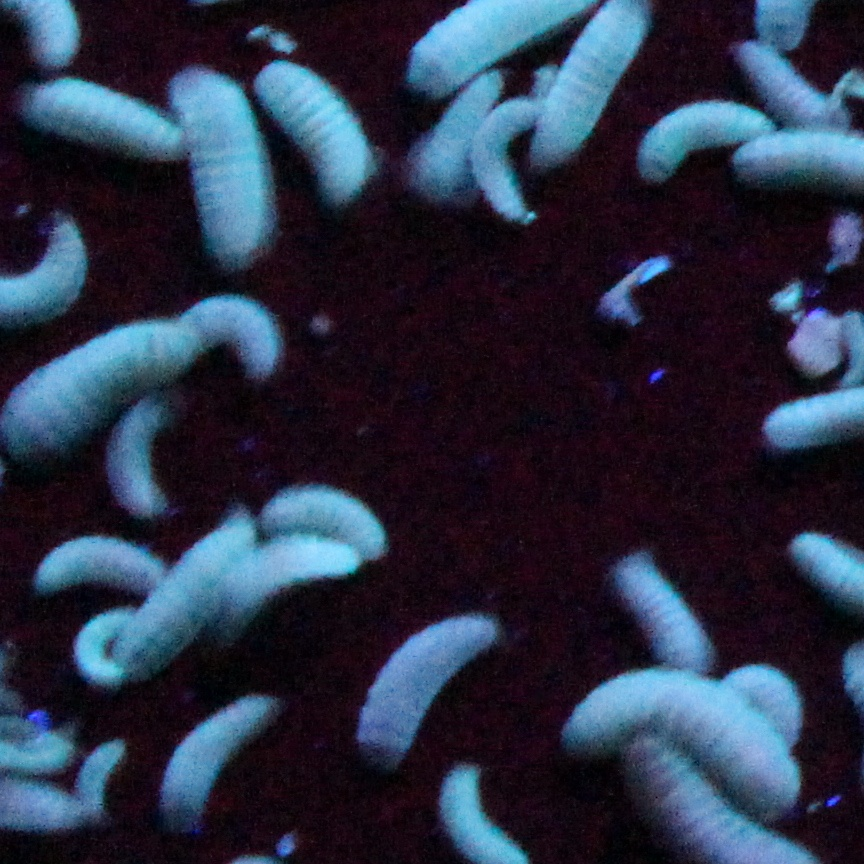larve: (565, 682, 799, 809), (5, 316, 185, 457), (355, 613, 500, 758), (177, 73, 275, 269), (139, 516, 247, 677), (259, 63, 365, 198), (164, 694, 270, 821), (223, 532, 353, 635), (612, 554, 717, 667), (24, 83, 177, 158), (645, 101, 761, 182), (415, 74, 500, 182), (476, 100, 543, 227), (741, 43, 838, 123), (268, 488, 383, 555), (188, 296, 280, 379), (36, 539, 165, 594), (109, 405, 170, 516), (73, 600, 134, 688), (76, 739, 124, 821)
